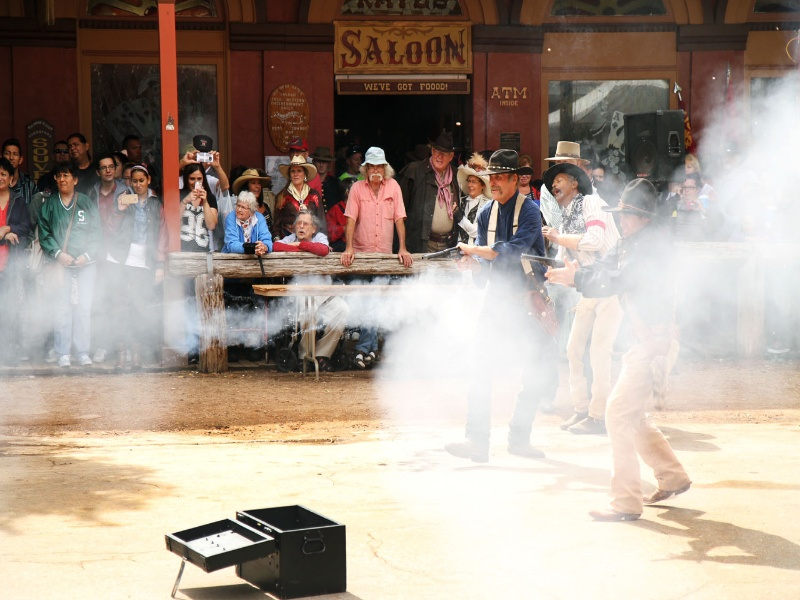gun: (517, 248, 571, 289), (423, 242, 474, 269)
